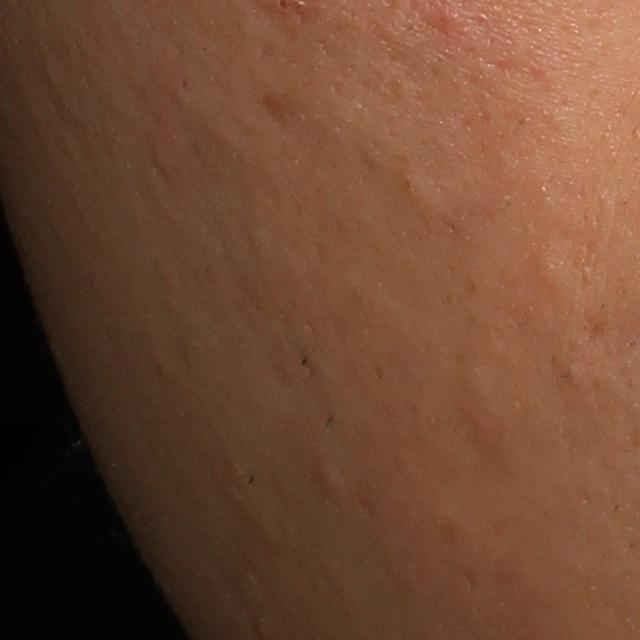comedo: (389, 163, 450, 217), (524, 243, 574, 288), (313, 451, 349, 500)
